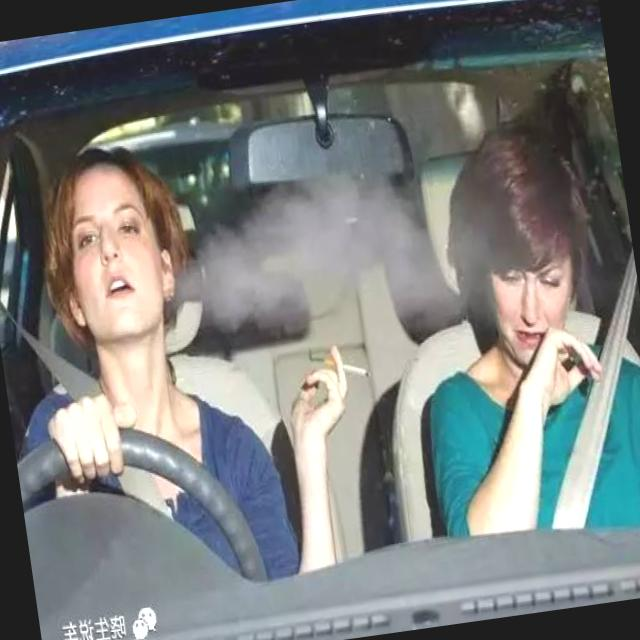smoke: (322, 352, 372, 385)
